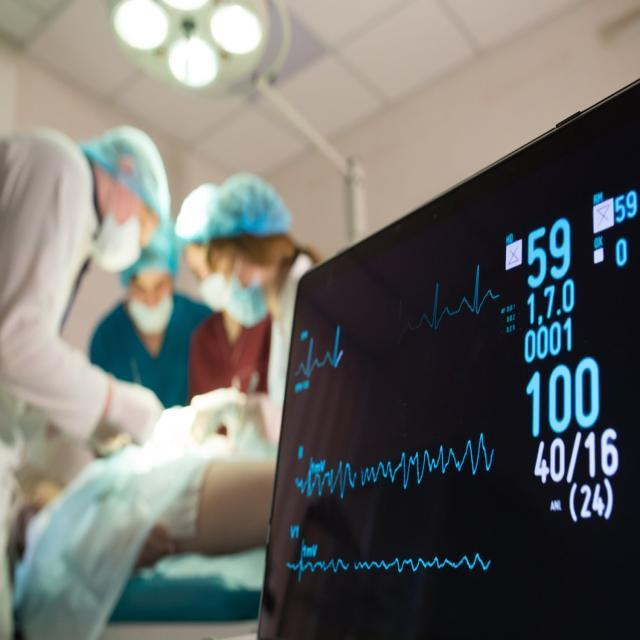Monitor: (257, 72, 638, 640)
bed: (2, 216, 331, 640)
